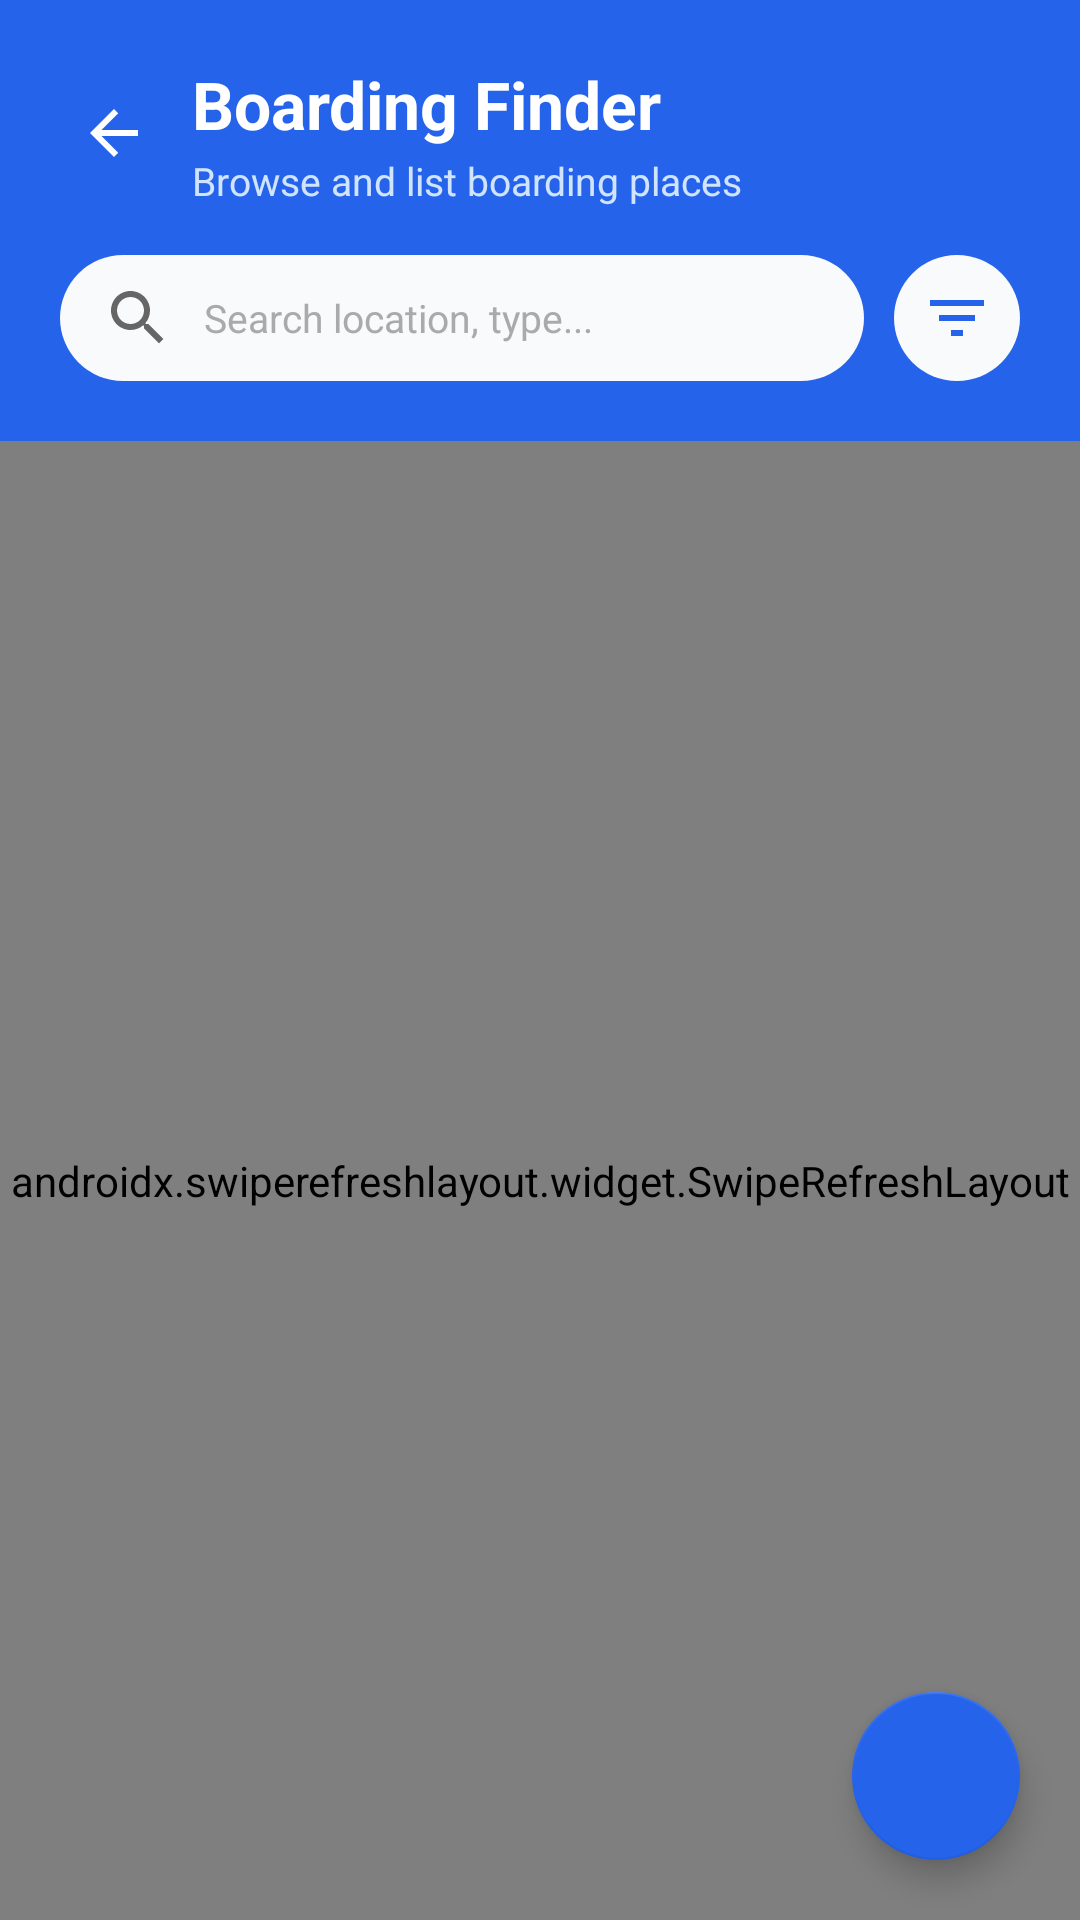

Named icons in this screenshot (1080 x 1920) and their centers, (x=x, y=y):
Back to Home: (x=114, y=133)
Filter: (x=957, y=318)
